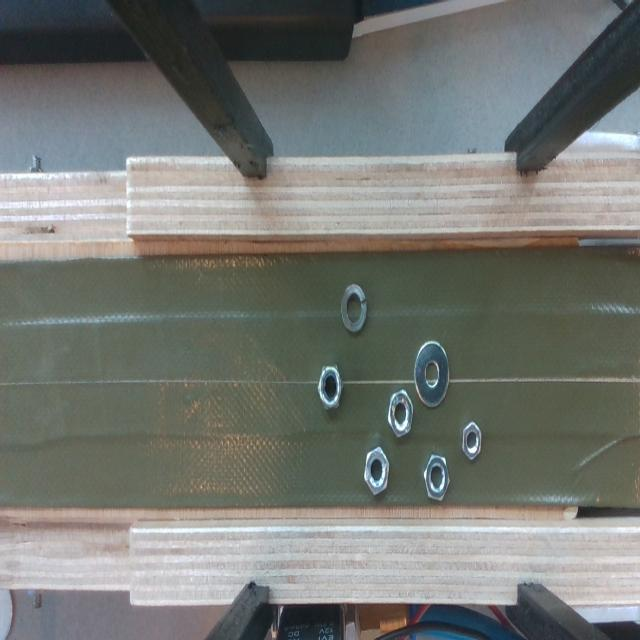Nut: (364, 447, 389, 495), (424, 454, 449, 500), (388, 390, 412, 437), (319, 366, 342, 409), (462, 421, 481, 459)
washer: (415, 343, 449, 407), (341, 283, 366, 333)
